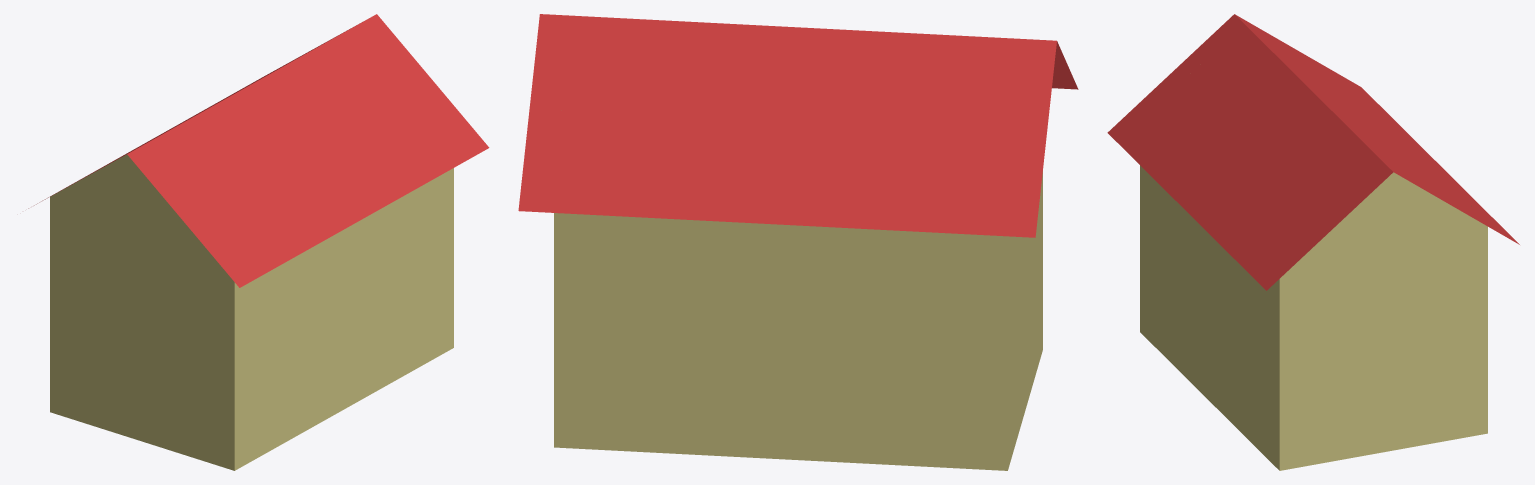
The picture shows the model from 3 angles, left to right: view 1: azimuth 30°, elevation 25°; view 2: azimuth 150°, elevation 25°; view 3: azimuth 270°, elevation 25°; orthographic projection. The views are drawn at different scales.
Size of the model in its own units: 14.57 by 12.48 by 9.66.
